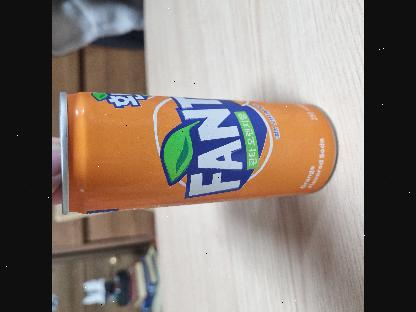Can: (52, 95, 338, 214)
